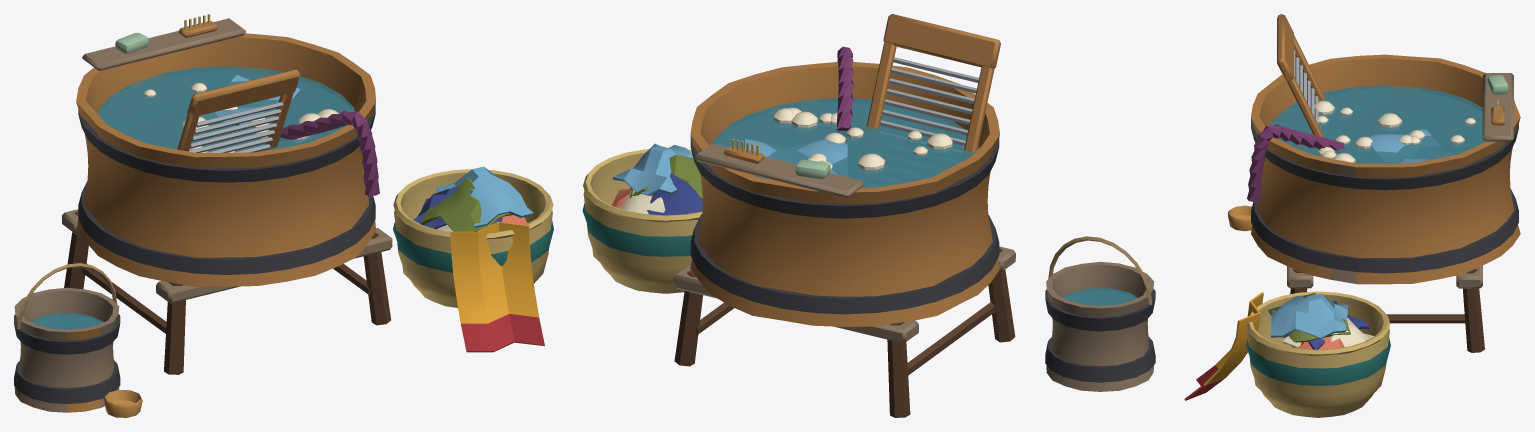
Rendered from deco_laundry_tub.fbx.
The picture shows the model from 3 angles, left to right: view 1: azimuth 30°, elevation 25°; view 2: azimuth 150°, elevation 25°; view 3: azimuth 270°, elevation 25°; orthographic projection. The views are drawn at different scales.
Visible parts, largest first — view 1: LaundryTub_Tub, LaundryTub_Basket, LaundryTub_Bucket, LaundryTub_Washboard; view 2: LaundryTub_Tub, LaundryTub_Basket, LaundryTub_Bucket, LaundryTub_Washboard; view 3: LaundryTub_Tub, LaundryTub_Basket, LaundryTub_Washboard, LaundryTub_Bucket.
Boxes of the visible parts, x1,y1,x2,y2 form: LaundryTub_Tub: [61, 14, 392, 374]; LaundryTub_Basket: [393, 166, 553, 352]; LaundryTub_Bucket: [14, 263, 142, 417]; LaundryTub_Washboard: [177, 69, 300, 152]; LaundryTub_Tub: [673, 46, 1015, 417]; LaundryTub_Basket: [582, 143, 702, 293]; LaundryTub_Bucket: [1045, 236, 1155, 391]; LaundryTub_Washboard: [866, 14, 1000, 156]; LaundryTub_Tub: [1247, 54, 1520, 352]; LaundryTub_Basket: [1184, 291, 1390, 417]; LaundryTub_Washboard: [1277, 14, 1325, 137]; LaundryTub_Bucket: [1228, 205, 1252, 231].
Bounding box in the file's own units: 249 × 128 × 151.
